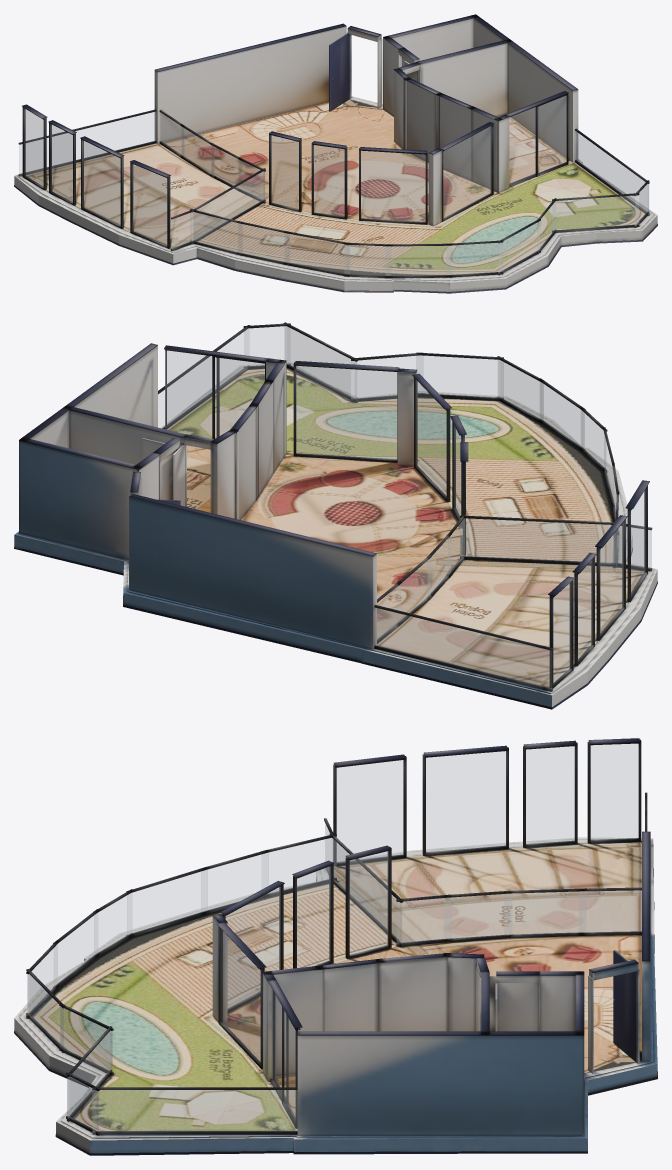
3 views of the same model, one above another, from view 1: azimuth 30°, elevation 25°; view 2: azimuth 150°, elevation 25°; view 3: azimuth 270°, elevation 25° (orthographic). The views are drawn at different scales.
Visible parts, largest first — view 1: plan, glass4_m, glass1_m, railg11_m, glass0_m, glass7_m, railg2_m, glass8_m, glass3_m, railg16_m, railg0_m, railg6_m (+15 smaller); view 2: plan, glass0_m, railg11_m, glass1_m, railg16_m, railg4_m, railg0_m, glass4_m, railg2_m, glass7_m, railg3_m, railg5_m (+11 smaller); view 3: plan, railg0_m, glass7_m, glass8_m, glass6_m, glass5_m, glass4_m, glass0_m, glass2_m, railg13_m, railg8_m, glass3_m (+14 smaller).
Boxes of the visible parts, left/top/right/bottom form: plan: left=14, top=14, right=657, bottom=293; glass4_m: left=361, top=151, right=425, bottom=222; glass1_m: left=509, top=96, right=566, bottom=184; railg11_m: left=19, top=112, right=155, bottom=173; glass0_m: left=443, top=126, right=491, bottom=218; glass7_m: left=83, top=141, right=120, bottom=225; railg2_m: left=553, top=195, right=638, bottom=230; glass8_m: left=132, top=164, right=166, bottom=245; glass3_m: left=314, top=145, right=344, bottom=216; railg16_m: left=191, top=171, right=264, bottom=241; railg0_m: left=576, top=131, right=648, bottom=213; railg6_m: left=386, top=246, right=451, bottom=275; plan: left=14, top=322, right=657, bottom=709; glass0_m: left=296, top=366, right=396, bottom=459; railg11_m: left=375, top=608, right=551, bottom=688; glass1_m: left=165, top=350, right=264, bottom=438; railg16_m: left=460, top=518, right=613, bottom=562; railg4_m: left=416, top=355, right=503, bottom=397; railg0_m: left=158, top=329, right=248, bottom=428; glass4_m: left=416, top=380, right=446, bottom=496; railg2_m: left=285, top=326, right=356, bottom=399; glass7_m: left=600, top=522, right=623, bottom=634; railg3_m: left=351, top=355, right=422, bottom=398; railg5_m: left=498, top=360, right=543, bottom=420; plan: left=14, top=738, right=657, bottom=1155; railg0_m: left=92, top=1090, right=297, bottom=1131; glass7_m: left=426, top=751, right=505, bottom=852; glass8_m: left=337, top=760, right=403, bottom=862; glass6_m: left=526, top=746, right=574, bottom=844; glass5_m: left=591, top=744, right=638, bottom=840; glass4_m: left=226, top=887, right=280, bottom=1008; glass0_m: left=221, top=930, right=260, bottom=1062; glass2_m: left=350, top=851, right=388, bottom=955; railg13_m: left=504, top=891, right=586, bottom=934; railg8_m: left=127, top=870, right=207, bottom=934; glass3_m: left=297, top=866, right=330, bottom=967.
Bounding box in the file's own units: 14.57 × 2.62 × 13.07.
2 materials, 1 textured.
